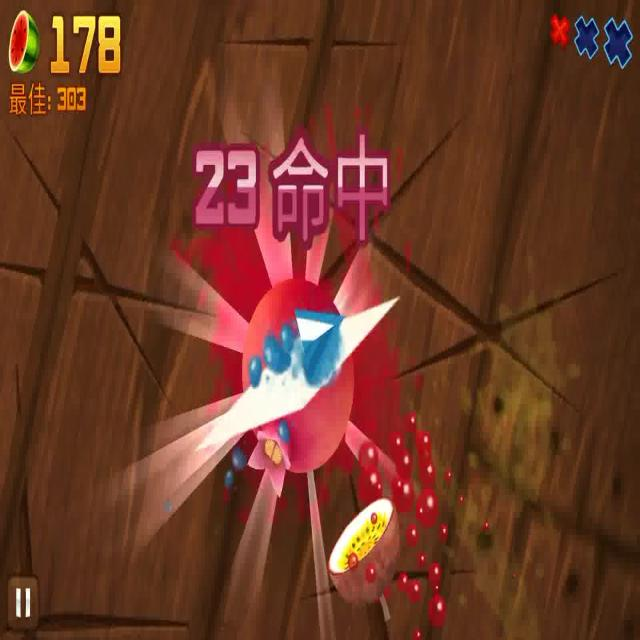fruit: (240, 280, 351, 467), (328, 497, 400, 600)
